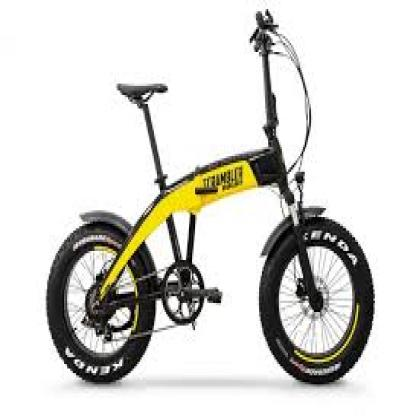Bike: (43, 5, 375, 393)
